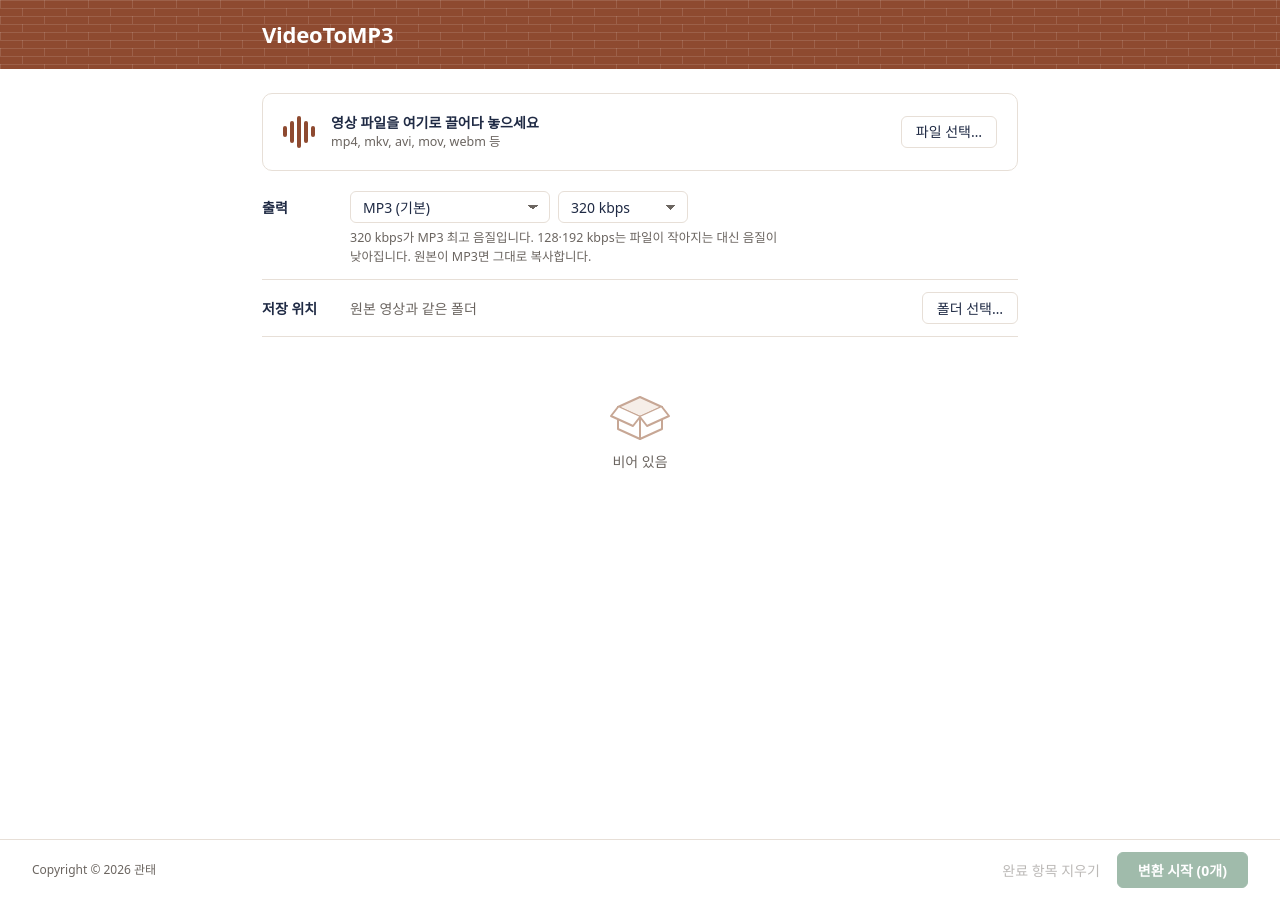
Test: 파일 추가 › 파일 선택 창에서 고른 영상을 추가한다
Click the button "파일 선택…" at (949, 132), box left=901, top=116, right=997, bottom=148
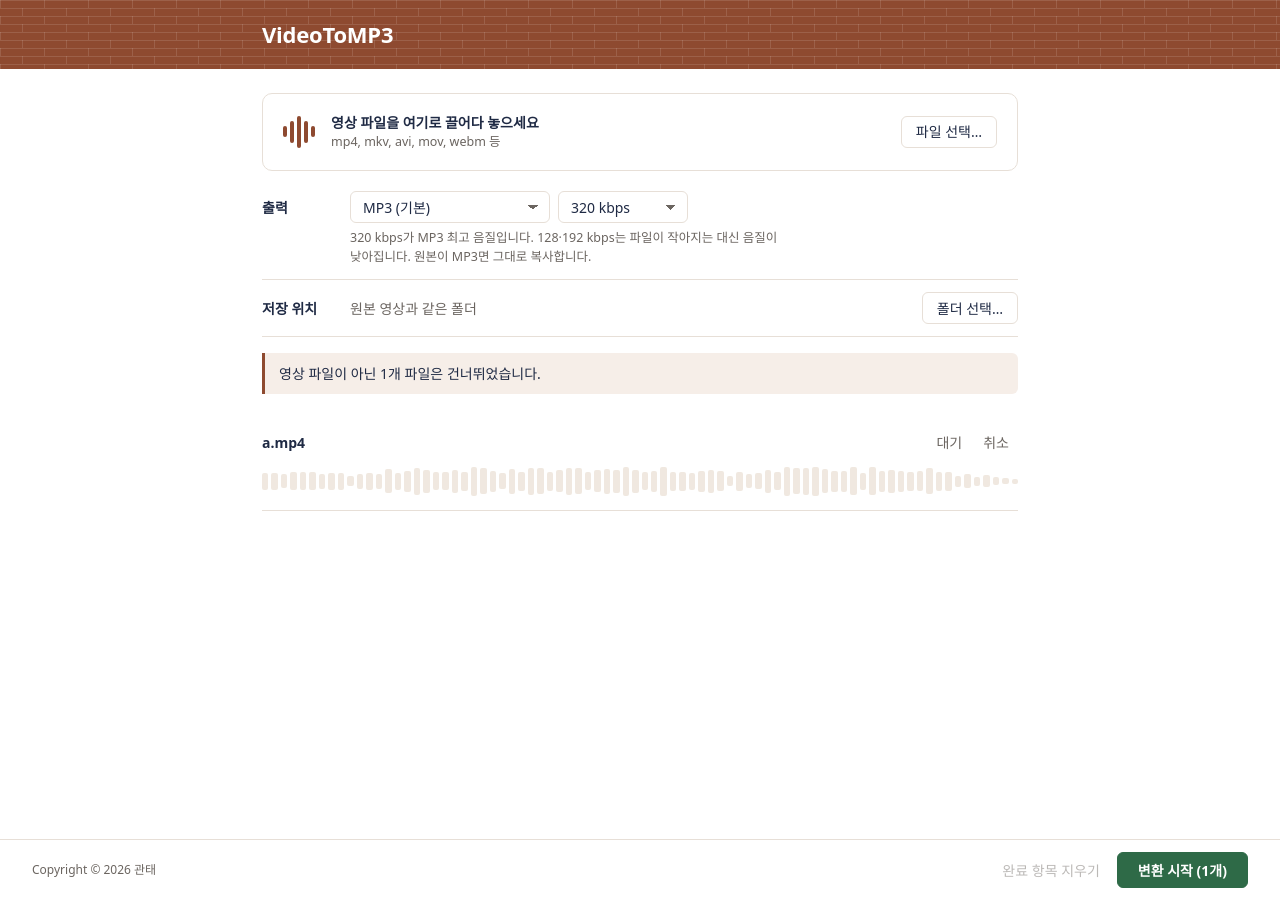
Expected: the message reads "영상 파일이 아닌 1개 파일은 건너뛰었습니다.", left=279, top=364, right=541, bottom=383
